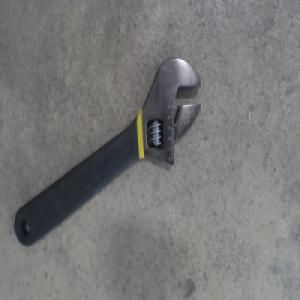AdjustableWrench: (14, 58, 200, 248)
